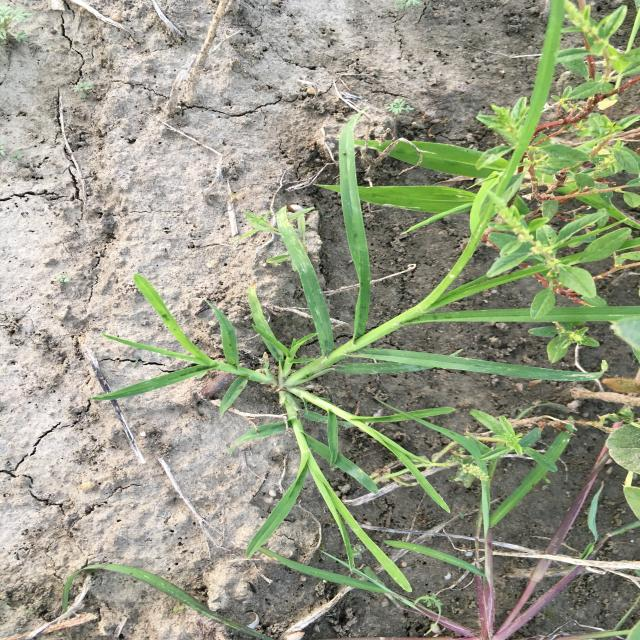Goosegrass: (84, 1, 637, 594)
Waterhemp: (464, 3, 633, 319), (449, 408, 563, 491)
